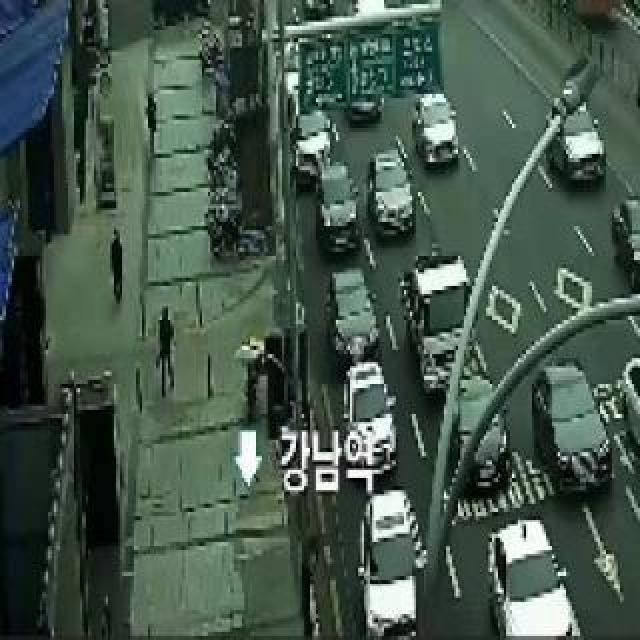truck: (395, 250, 481, 400)
